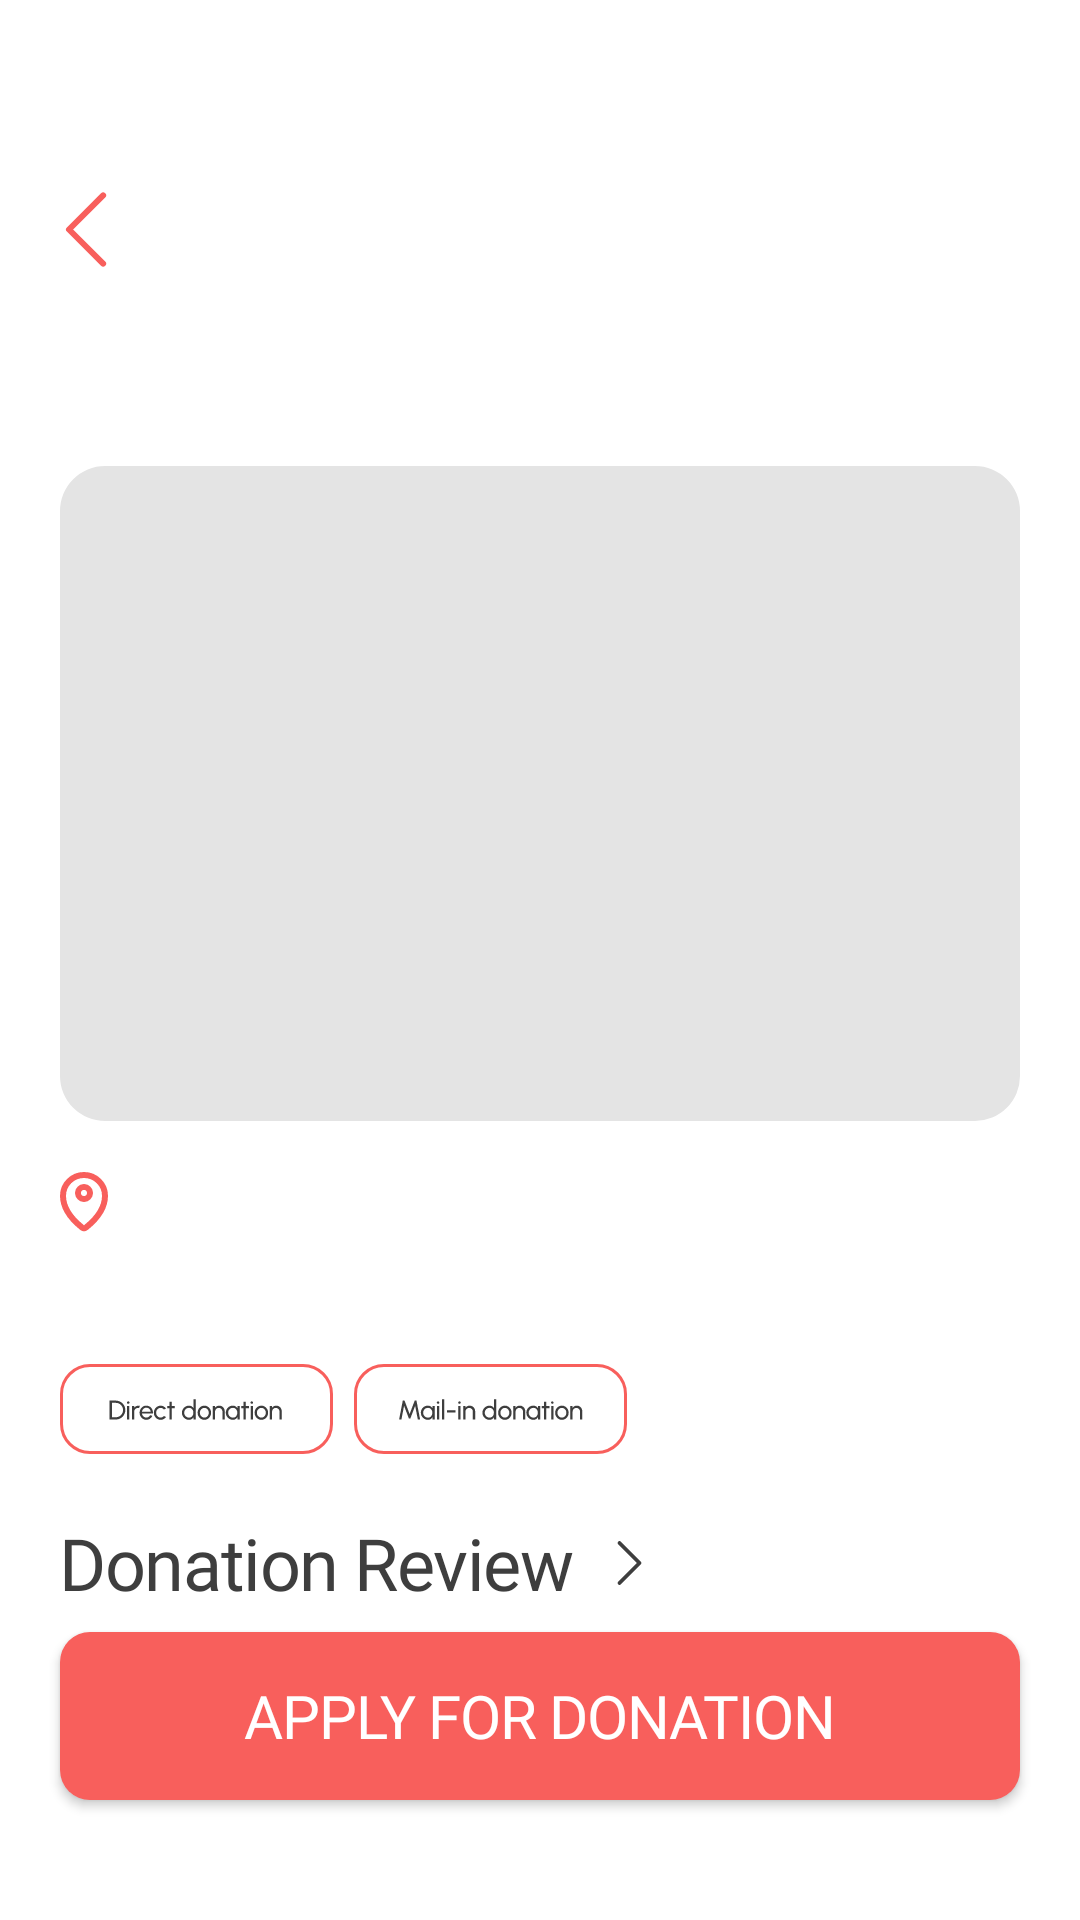

Icons on this 1080x1920 Android screen, each with the point to tap as point (x, y):
기부 리뷰 상세 버튼: point (629, 1563)
기업 상세 뒤로가기 버튼: point (86, 229)
기업 상세 위치 아이콘: point (84, 1202)
